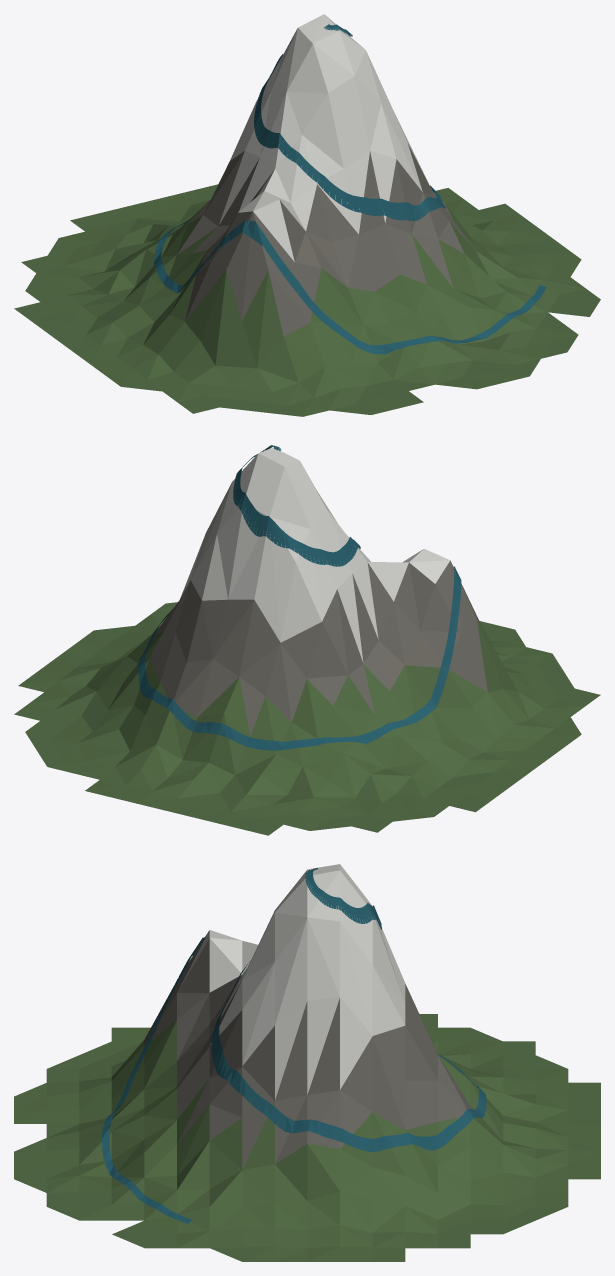
Rendered from mountain.glb.
The picture shows the model from 3 angles, top to bottom: view 1: azimuth 30°, elevation 25°; view 2: azimuth 150°, elevation 25°; view 3: azimuth 270°, elevation 25°; orthographic projection. The views are drawn at different scales.
Visible parts, largest first — view 1: mountain; view 2: mountain; view 3: mountain.
Boxes of the visible parts, bbox=[...] form: mountain: bbox=[14, 14, 600, 416]; mountain: bbox=[14, 445, 600, 835]; mountain: bbox=[14, 864, 600, 1261].
Bounding box in the file's own units: 2 × 1.06 × 2.
